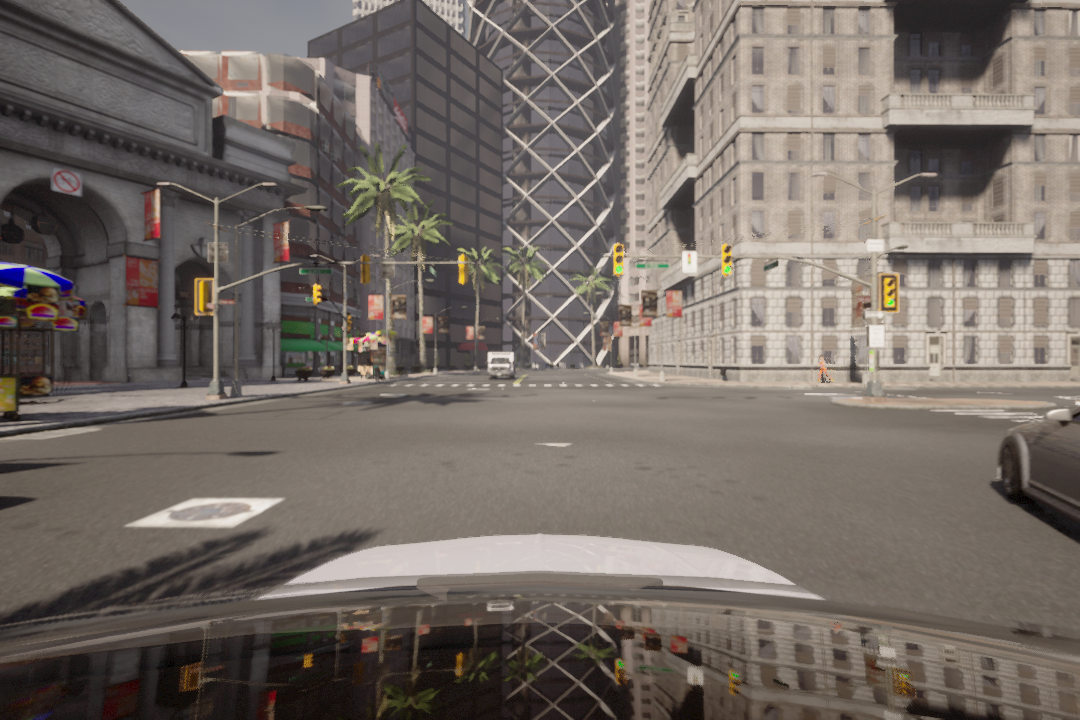TrafficLight: (878, 275, 900, 312), (611, 243, 628, 277), (720, 241, 734, 278)
TrafficSign: (52, 168, 81, 194)
walkside: (387, 380, 664, 391)
